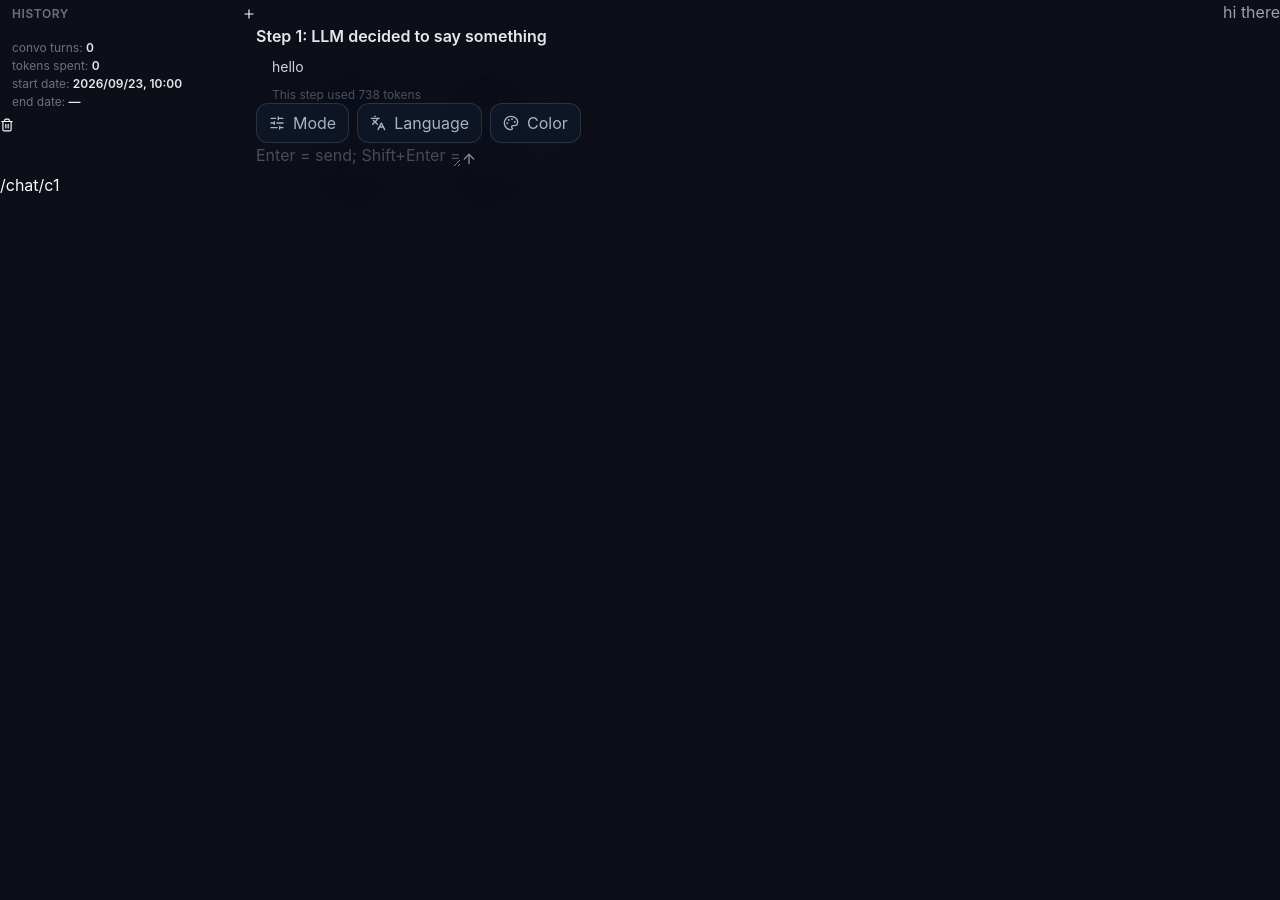
Test: ChatPage conversation URL › leaves the URL when the open conversation is deleted
The width and height of the screenshot is (1280, 900).
Expected: the text "hello" is shown, [272, 58, 304, 75]
Step 1. Click the button with test id "chat-conversation-delete" → (7, 125), box [0, 118, 14, 132]
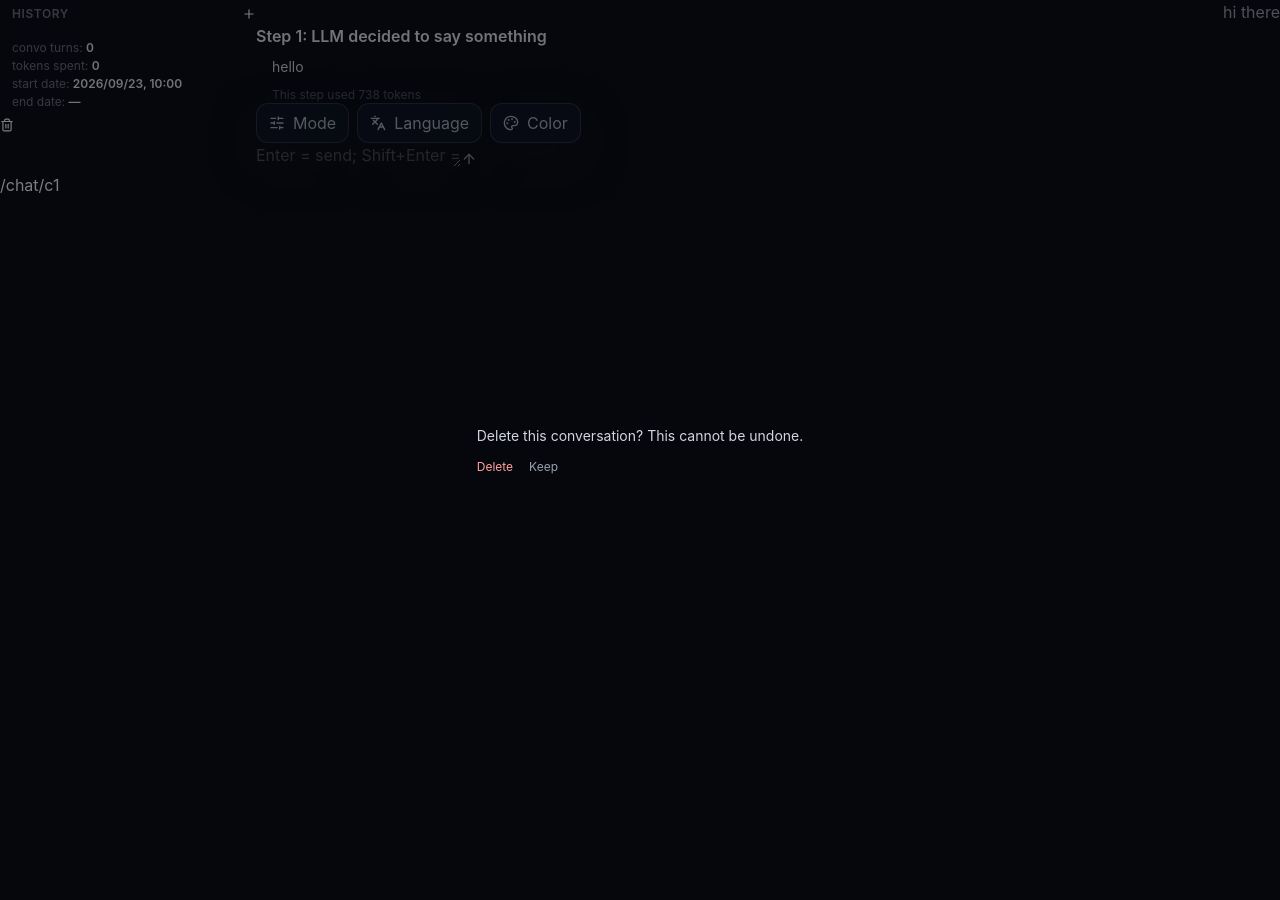
Step 2. Click the button with test id "chat-conversation-delete-confirm" → (495, 467), box [477, 459, 513, 475]
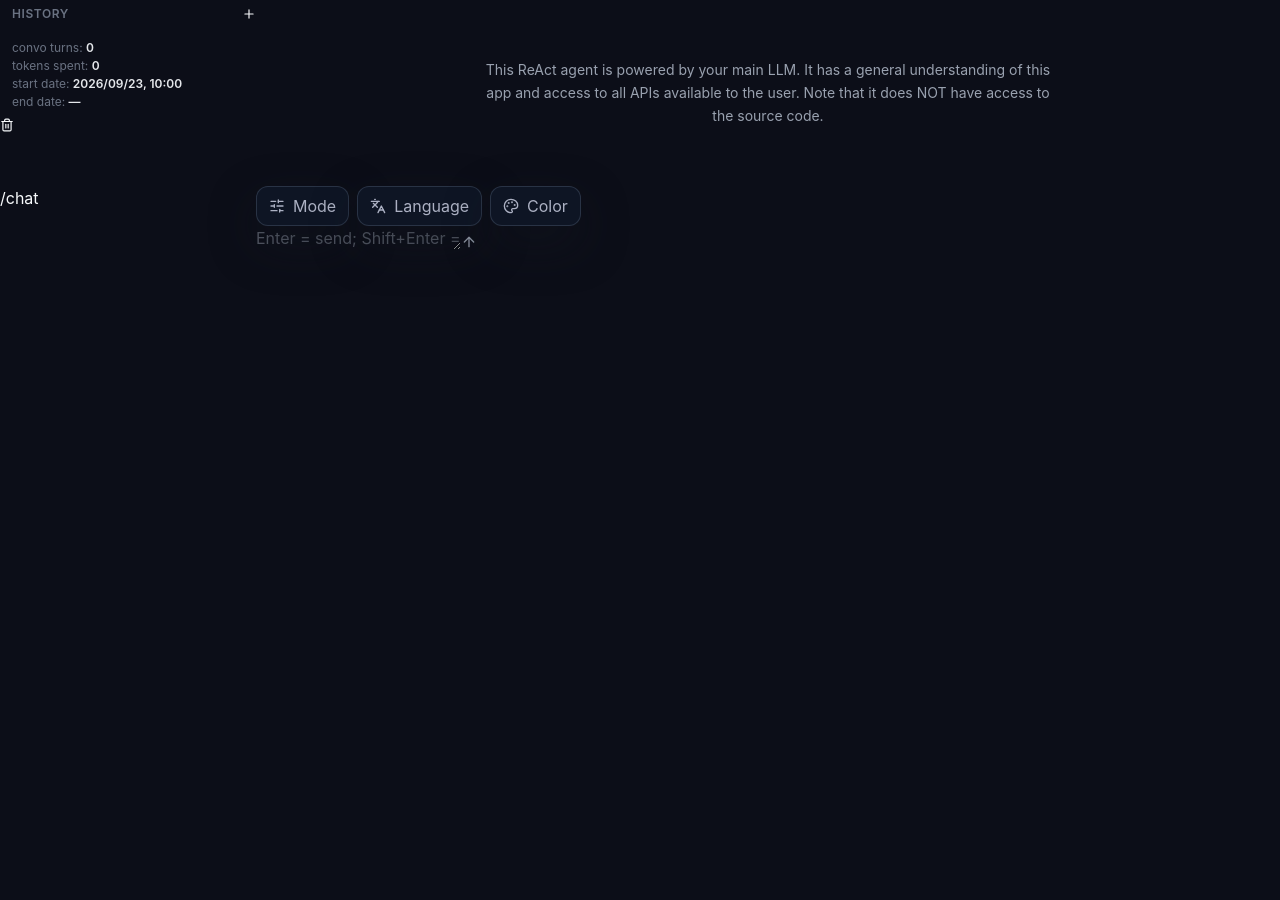
Expected: the element with test id "chat-empty" is shown, [486, 61, 1050, 124]
Expected: the text with test id "location" reads "/chat", [0, 188, 39, 208]
